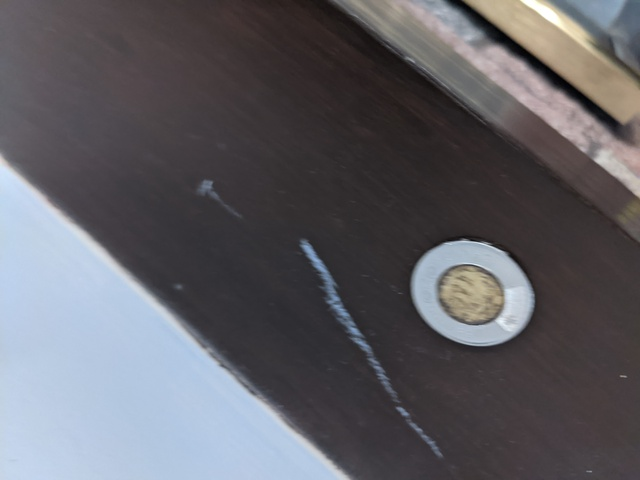twonie: (403, 226, 541, 358)
